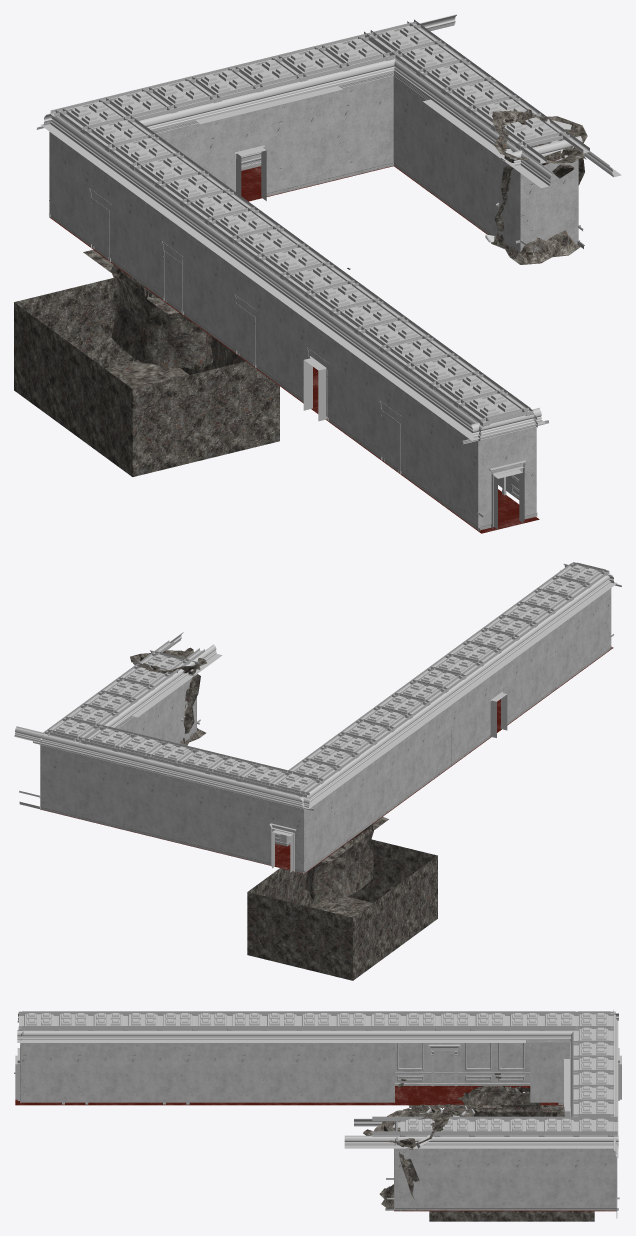
File: Hotelroom3.fbx
The picture shows the model from 3 angles, top to bottom: view 1: azimuth 30°, elevation 25°; view 2: azimuth 150°, elevation 25°; view 3: azimuth 270°, elevation 25°; orthographic projection. The views are drawn at different scales.
Visible parts, largest first — view 1: LODGroup_1_MainMesh_1_SubMesh_9, LODGroup_1_MainMesh_1_SubMesh_2, LODGroup_1_MainMesh_1_SubMesh_6, LODGroup_1_MainMesh_1_SubMesh_5, LODGroup_1_MainMesh_1_SubMesh_3, LODGroup_1_MainMesh_1_SubMesh_1, LODGroup_1_MainMesh_1_SubMesh_4, LODGroup_1_MainMesh_1_SubMesh_7; view 2: LODGroup_1_MainMesh_1_SubMesh_9, LODGroup_1_MainMesh_1_SubMesh_2, LODGroup_1_MainMesh_1_SubMesh_6, LODGroup_1_MainMesh_1_SubMesh_5, LODGroup_1_MainMesh_1_SubMesh_3, LODGroup_1_MainMesh_1_SubMesh_1, LODGroup_1_MainMesh_1_SubMesh_4; view 3: LODGroup_1_MainMesh_1_SubMesh_9, LODGroup_1_MainMesh_1_SubMesh_6, LODGroup_1_MainMesh_1_SubMesh_5, LODGroup_1_MainMesh_1_SubMesh_2, LODGroup_1_MainMesh_1_SubMesh_1, LODGroup_1_MainMesh_1_SubMesh_3, LODGroup_1_MainMesh_1_SubMesh_7, LODGroup_1_MainMesh_1_SubMesh_4.
Part boxes in pixels (x1,y1,x2,y2): LODGroup_1_MainMesh_1_SubMesh_9: [49, 75, 578, 527]; LODGroup_1_MainMesh_1_SubMesh_2: [14, 109, 587, 476]; LODGroup_1_MainMesh_1_SubMesh_6: [50, 19, 589, 426]; LODGroup_1_MainMesh_1_SubMesh_5: [41, 14, 621, 440]; LODGroup_1_MainMesh_1_SubMesh_3: [36, 72, 586, 531]; LODGroup_1_MainMesh_1_SubMesh_1: [50, 165, 539, 533]; LODGroup_1_MainMesh_1_SubMesh_4: [237, 147, 526, 529]; LODGroup_1_MainMesh_1_SubMesh_7: [89, 145, 506, 495]; LODGroup_1_MainMesh_1_SubMesh_9: [40, 588, 611, 871]; LODGroup_1_MainMesh_1_SubMesh_2: [130, 647, 437, 980]; LODGroup_1_MainMesh_1_SubMesh_6: [43, 562, 609, 797]; LODGroup_1_MainMesh_1_SubMesh_5: [14, 563, 617, 808]; LODGroup_1_MainMesh_1_SubMesh_3: [19, 570, 621, 873]; LODGroup_1_MainMesh_1_SubMesh_1: [41, 647, 613, 873]; LODGroup_1_MainMesh_1_SubMesh_4: [269, 693, 507, 872]; LODGroup_1_MainMesh_1_SubMesh_9: [20, 1042, 617, 1208]; LODGroup_1_MainMesh_1_SubMesh_6: [18, 1011, 617, 1136]; LODGroup_1_MainMesh_1_SubMesh_5: [17, 1010, 618, 1158]; LODGroup_1_MainMesh_1_SubMesh_2: [363, 1073, 594, 1221]; LODGroup_1_MainMesh_1_SubMesh_1: [15, 1086, 616, 1211]; LODGroup_1_MainMesh_1_SubMesh_3: [14, 1020, 619, 1218]; LODGroup_1_MainMesh_1_SubMesh_7: [62, 1044, 530, 1104]; LODGroup_1_MainMesh_1_SubMesh_4: [15, 1048, 621, 1116].
Size of the model in its own units: 2347 by 1299 by 3886.
